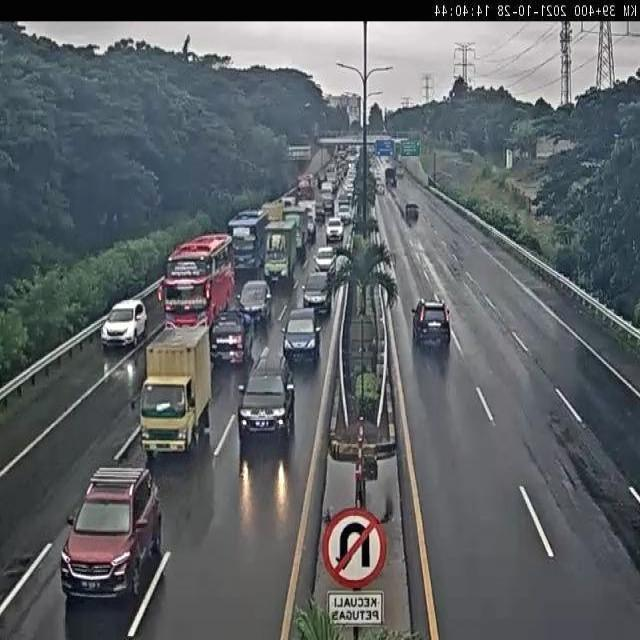Car: (62, 464, 162, 600), (237, 366, 296, 446), (90, 282, 154, 352), (210, 310, 248, 368), (412, 298, 451, 353), (236, 280, 272, 328), (325, 217, 344, 242), (405, 202, 419, 224)
Truck: (140, 327, 212, 458), (320, 439, 400, 536), (227, 209, 271, 276), (262, 218, 300, 289), (330, 422, 381, 472), (281, 306, 321, 368), (353, 372, 383, 432), (280, 206, 310, 262), (302, 271, 333, 315), (329, 253, 353, 306), (385, 183, 407, 221), (298, 200, 316, 237), (309, 145, 332, 173), (314, 245, 336, 271), (214, 308, 244, 326), (254, 345, 271, 375), (262, 201, 284, 224), (321, 256, 339, 284), (239, 303, 256, 330), (320, 186, 334, 218), (347, 98, 361, 129), (344, 221, 356, 257), (336, 149, 350, 179), (336, 200, 352, 224), (358, 280, 368, 317), (316, 136, 348, 147), (236, 209, 263, 222), (436, 169, 458, 184), (129, 390, 141, 417), (289, 147, 312, 160), (298, 172, 314, 190), (314, 200, 326, 223), (580, 158, 604, 169), (280, 354, 289, 381), (459, 149, 475, 164), (385, 167, 396, 188), (370, 164, 380, 187), (282, 193, 297, 208), (326, 167, 337, 187), (368, 150, 378, 170), (534, 206, 548, 220), (403, 135, 420, 146), (364, 142, 377, 156), (346, 180, 355, 200), (400, 148, 418, 158), (383, 152, 394, 167), (327, 216, 342, 227), (329, 178, 339, 194), (318, 171, 328, 187), (450, 261, 460, 277), (347, 146, 358, 160), (347, 153, 358, 167), (352, 142, 366, 153), (235, 293, 244, 310), (377, 170, 386, 187), (450, 239, 460, 254), (157, 282, 164, 303), (376, 150, 387, 163), (394, 138, 407, 149), (334, 147, 344, 161), (375, 180, 384, 195), (428, 175, 438, 188), (315, 321, 323, 337), (324, 508, 332, 524), (391, 141, 398, 157), (411, 304, 419, 318), (287, 382, 294, 398), (378, 136, 392, 144), (313, 136, 322, 148), (302, 129, 311, 141), (397, 167, 405, 178), (396, 146, 404, 156), (317, 175, 322, 189), (382, 128, 388, 135)
